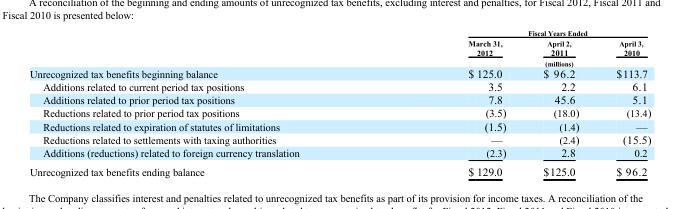table: (28, 28, 650, 177)
table column: (28, 28, 383, 177), (383, 28, 523, 177), (523, 28, 596, 177), (596, 28, 650, 177)
table column header: (28, 28, 650, 66)
table row: (28, 37, 650, 66), (28, 145, 650, 161), (28, 161, 650, 177), (28, 105, 650, 119), (28, 66, 650, 79), (28, 79, 650, 92), (28, 92, 650, 105), (28, 119, 650, 132), (28, 132, 650, 145), (28, 28, 650, 37)
table spanning cell: (383, 28, 650, 37)
